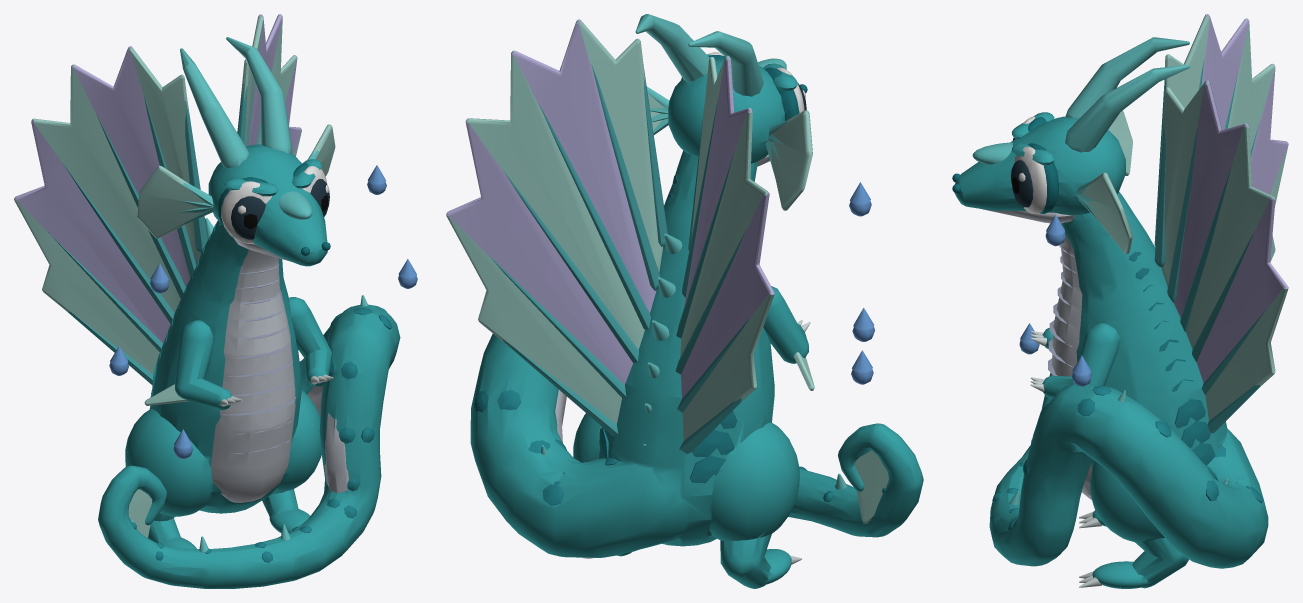
File: tidalfang.glb
The picture shows the model from 3 angles, left to right: view 1: azimuth 30°, elevation 25°; view 2: azimuth 150°, elevation 25°; view 3: azimuth 270°, elevation 25°; orthographic projection. The views are drawn at different scales.
Visible parts, largest first — view 1: creature; view 2: creature; view 3: creature.
Boxes of the visible parts, box(x1,y1,x2,y2) form: creature: box(14, 14, 417, 588); creature: box(446, 14, 923, 588); creature: box(952, 14, 1288, 588).
Size of the model in its own units: 0.7169 by 1 by 0.5985.
